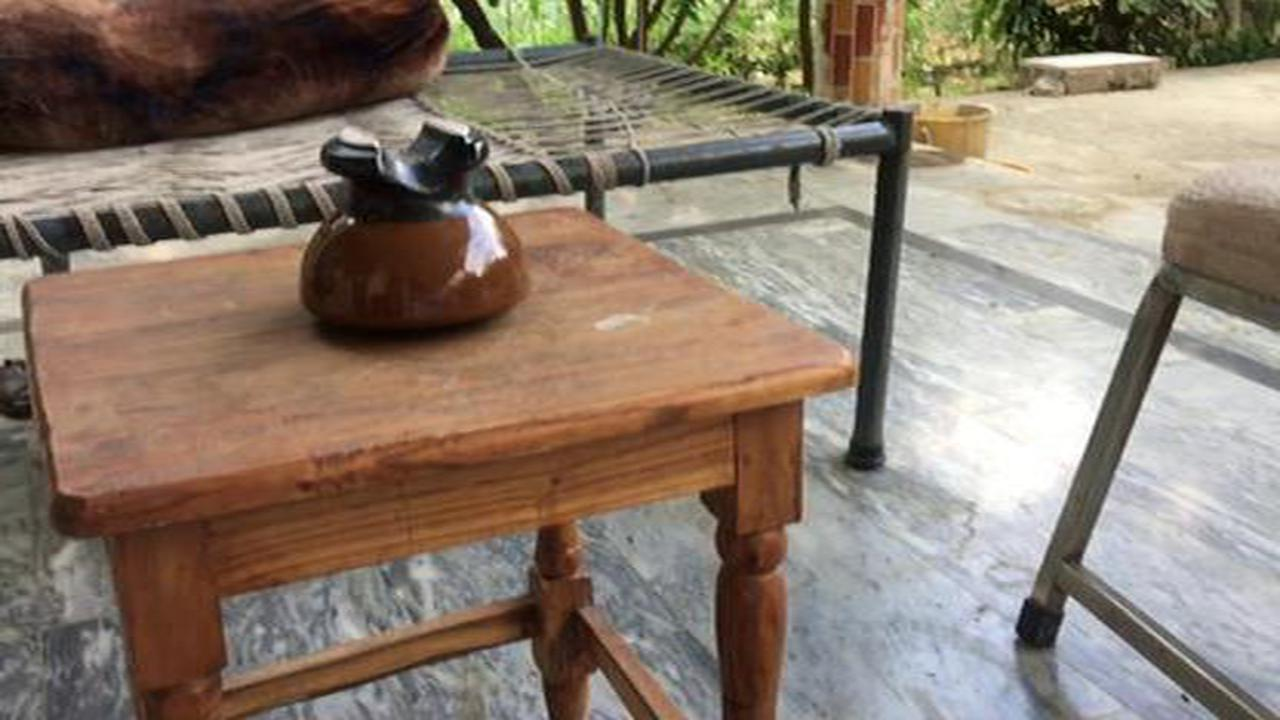insulator_pin: (287, 104, 542, 354)
